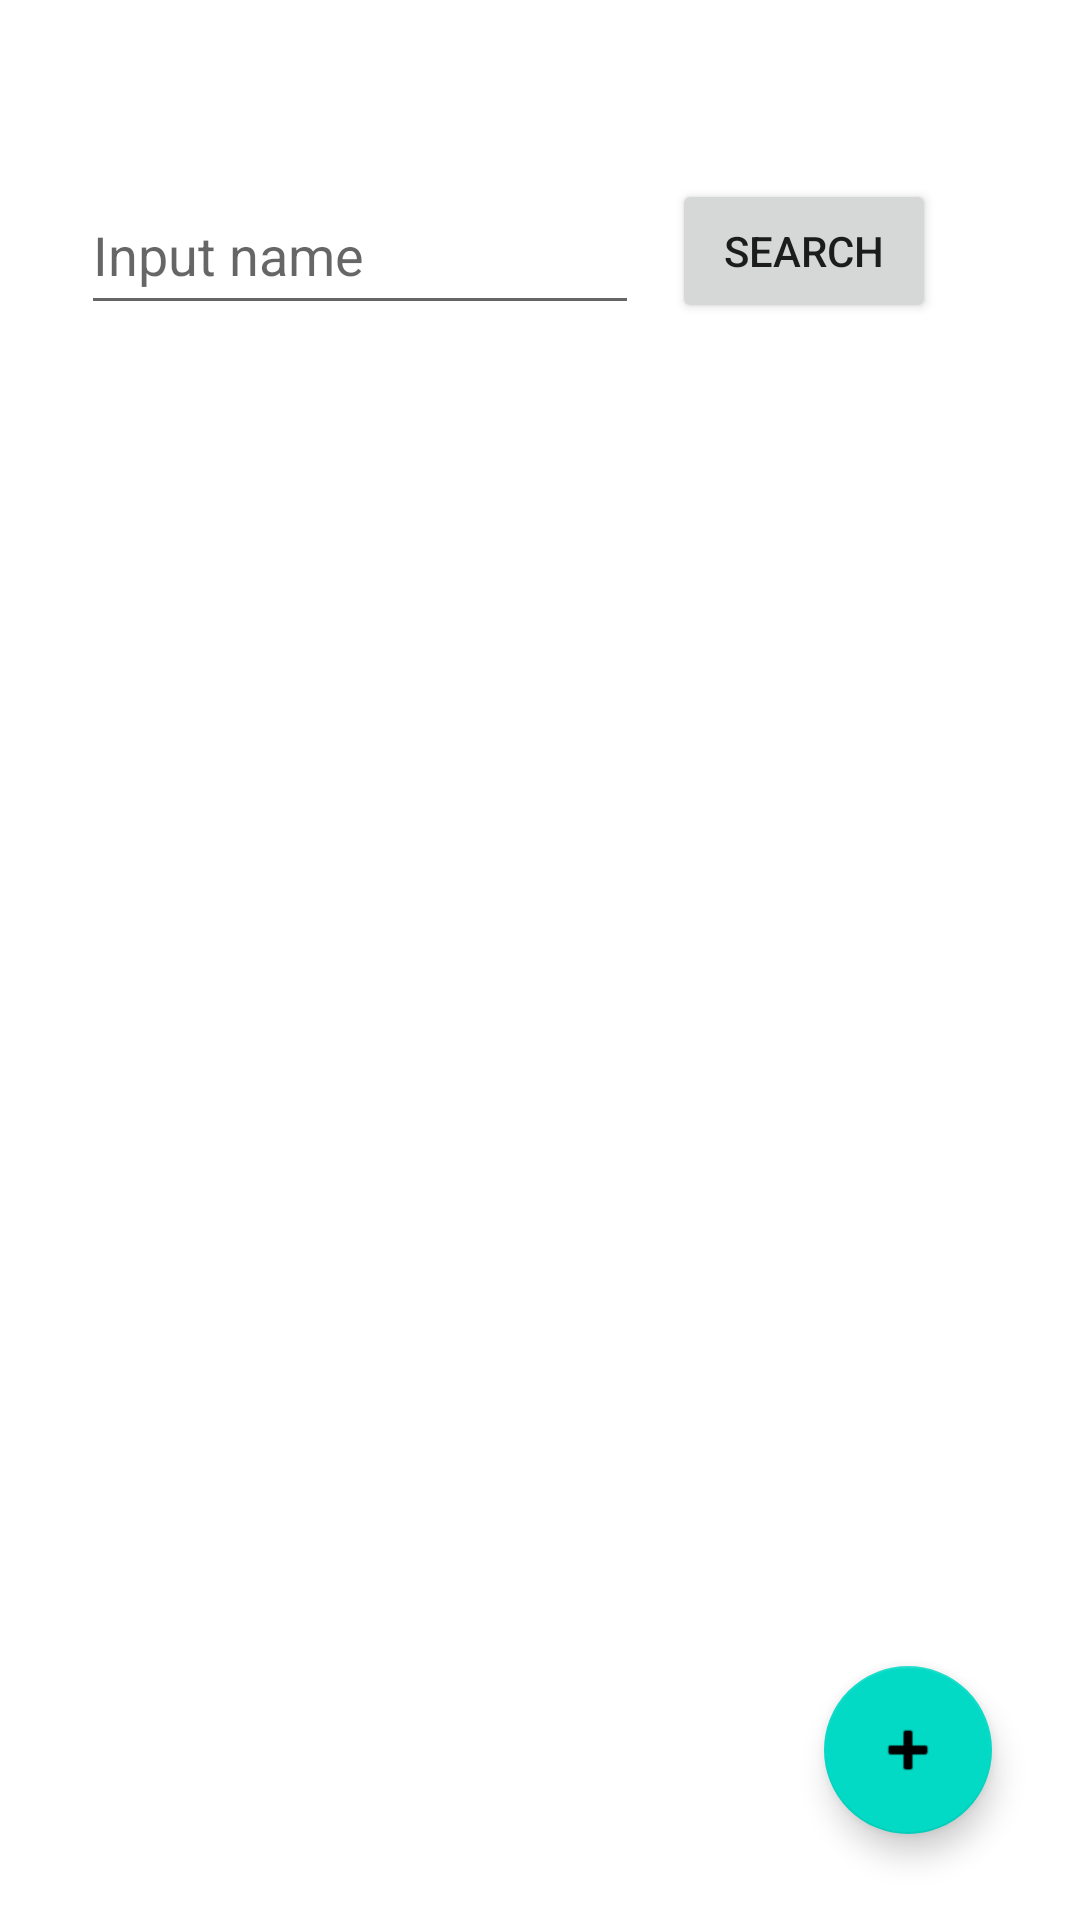

Icons on this 1080px×1920px Android screen, each with its box as region(x1, y1, x2, y2):
Add birthday: region(824, 1666, 992, 1834)
